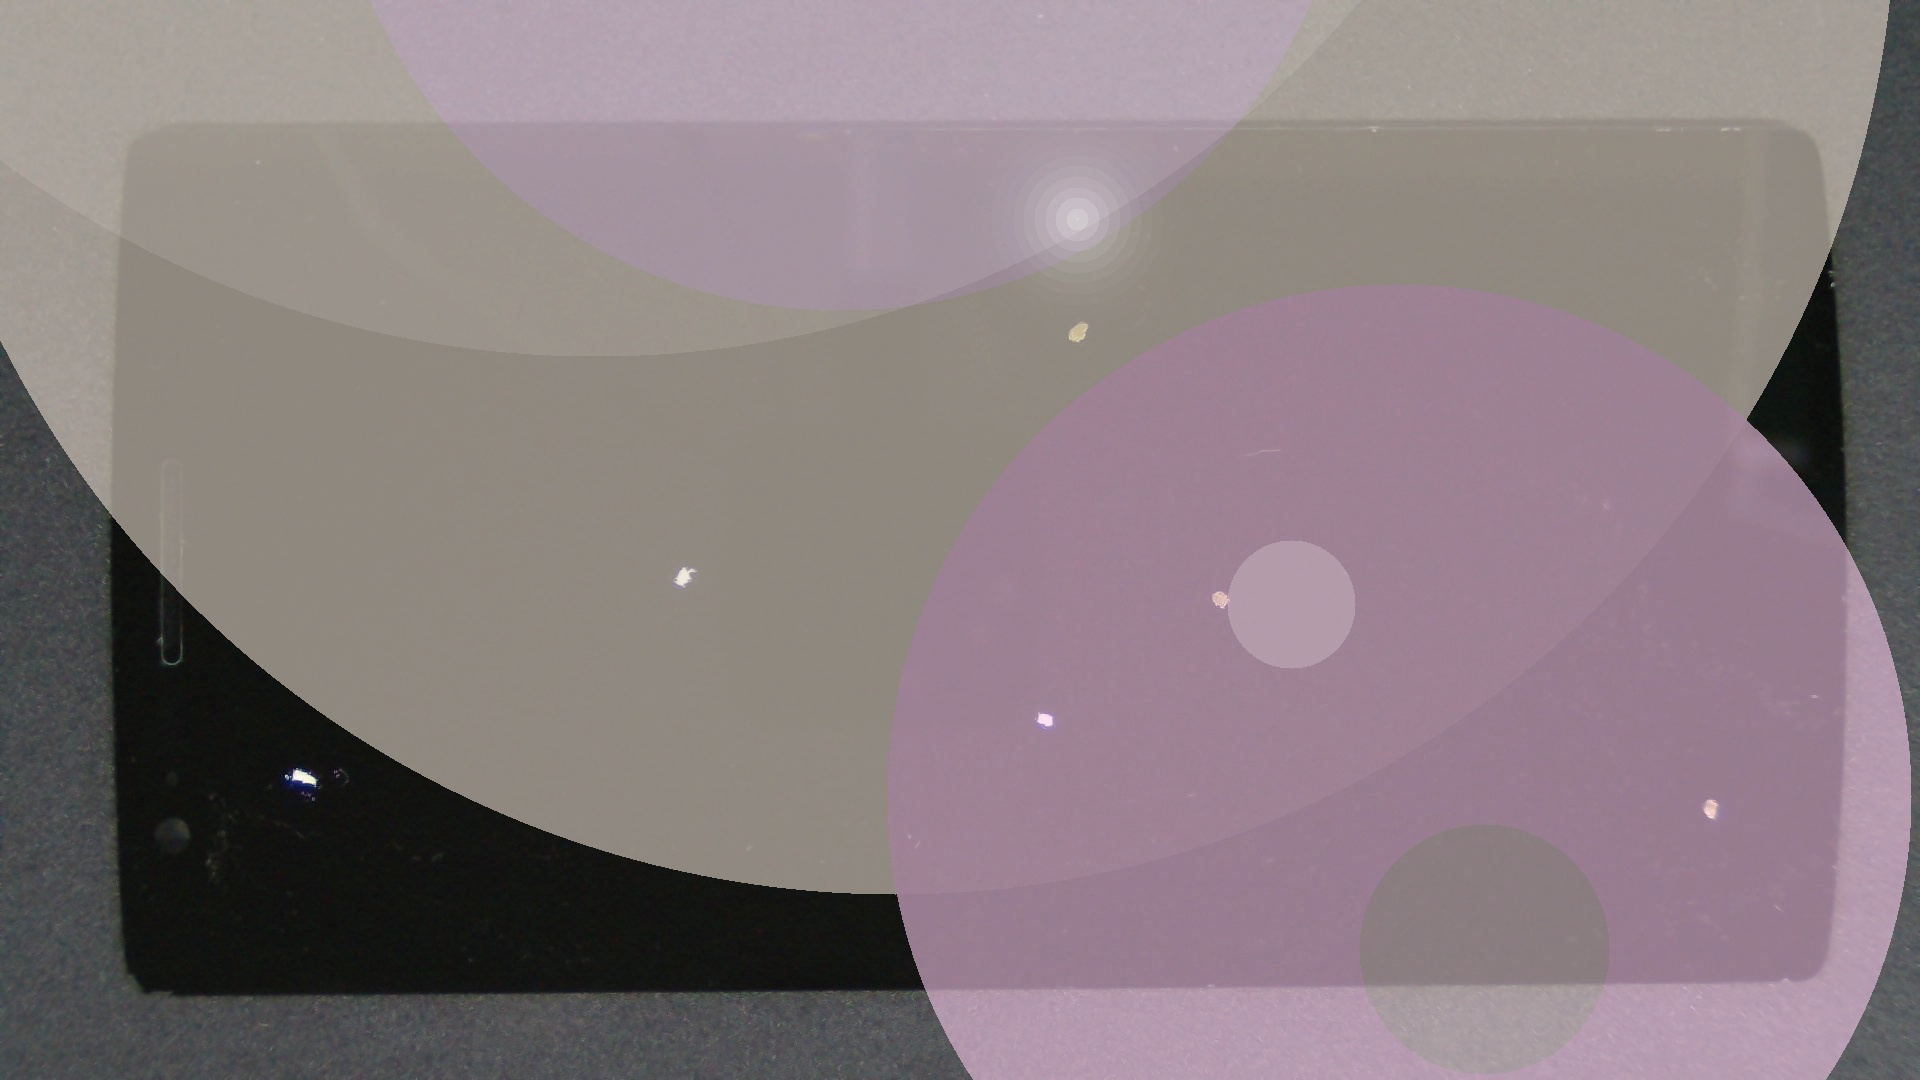oil: (520, 355, 1555, 1065), (857, 398, 1920, 1080), (611, 293, 1826, 884), (343, 281, 1023, 848), (545, 160, 1631, 480), (145, 381, 436, 1080)
